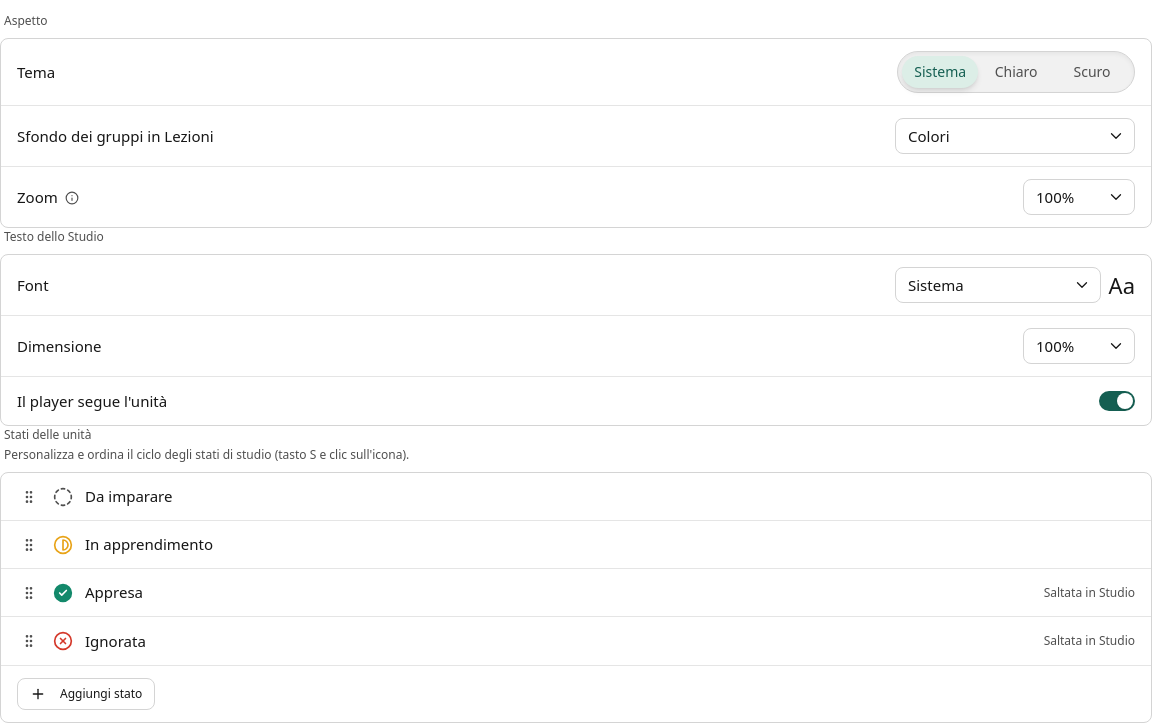
Test: cambiare la Select aggiorna lo zoom
The image size is (1152, 724).
Expected: the element with test id "pref-zoom" reads "100%", [1036,187,1074,207]
Scegli 125%
Click the button named "Zoom".
click(1116, 197)  # box [1102,183,1130,211]
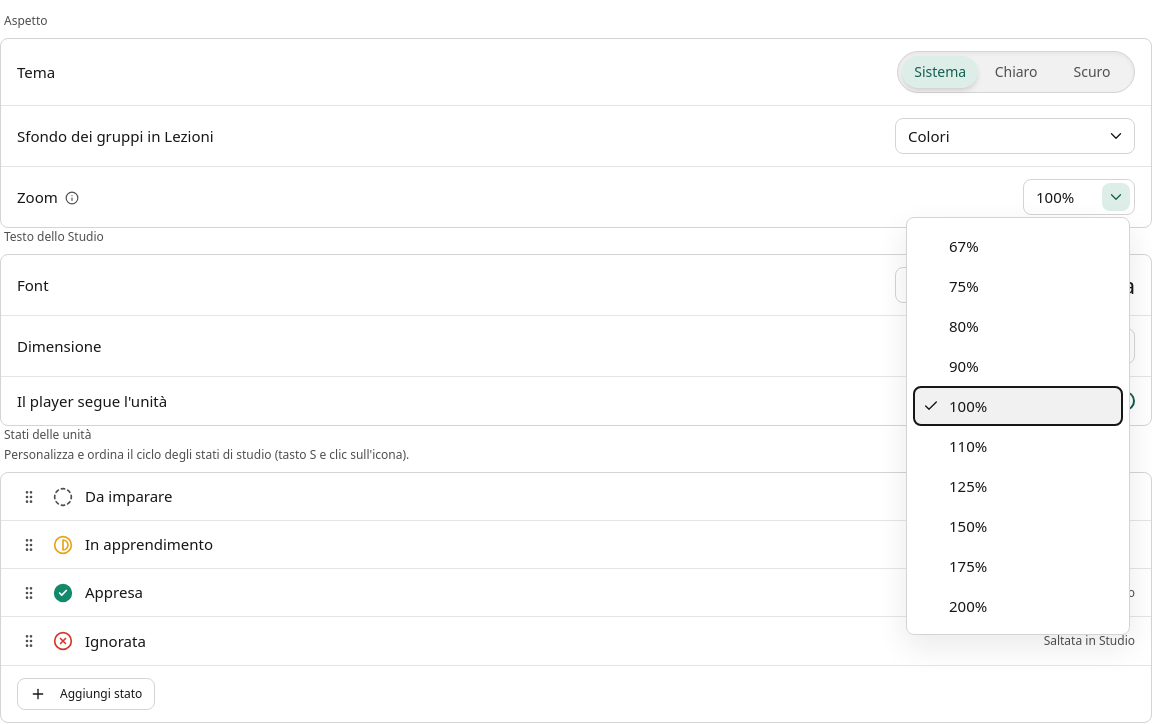
Click the menu item "125%".
click(1018, 486)  # box [913,466,1123,506]
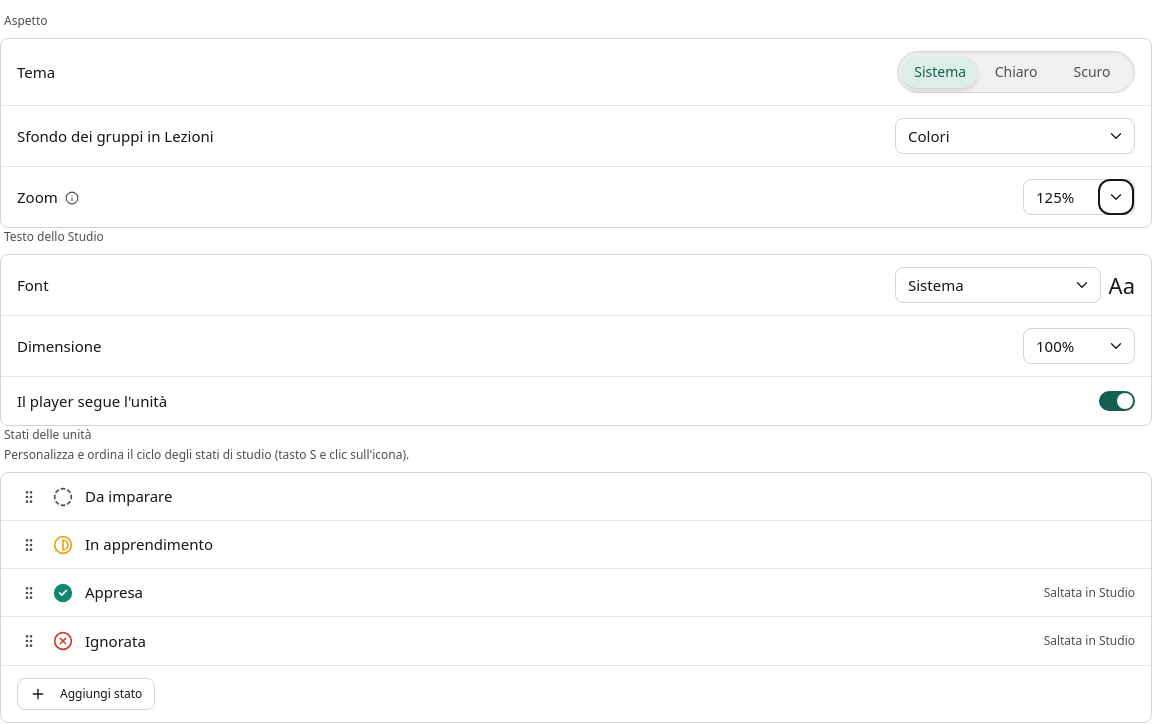
Now the element with test id "pref-zoom" reads "125%", box [1036,187,1074,207]
Reimposta a 100% dalla select
Click the button named "Zoom".
click(1116, 197)  # box [1102,183,1130,211]
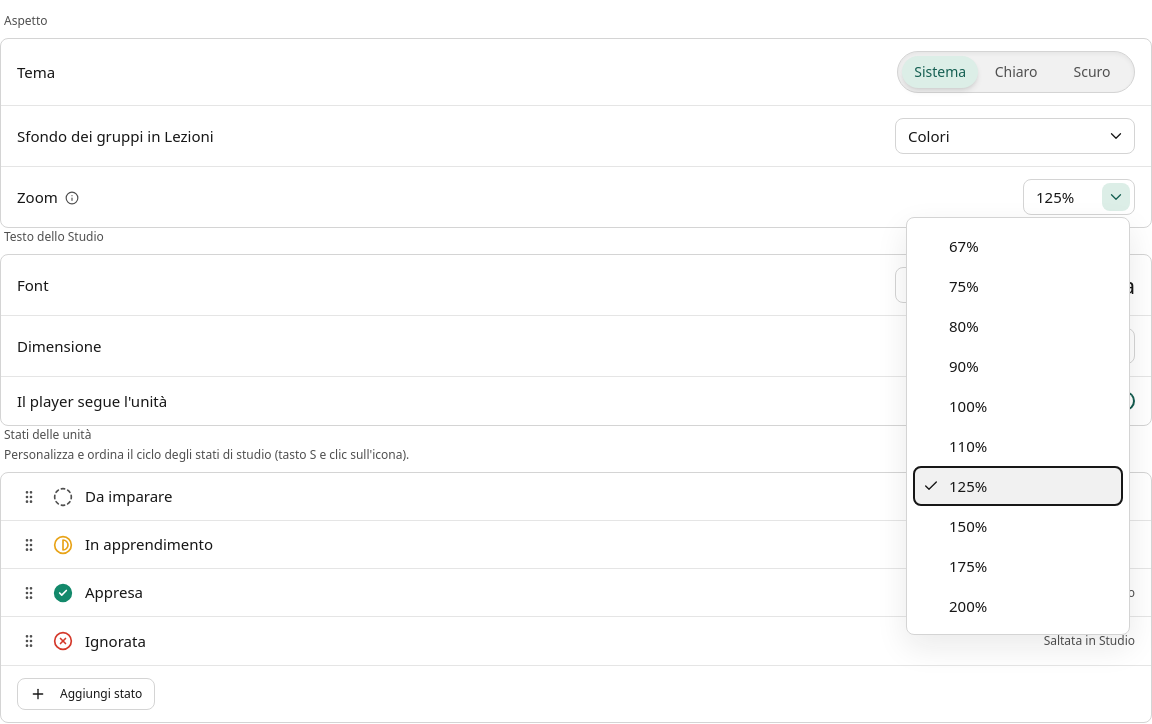
Click the menu item "100%".
click(1018, 406)  # box [913,386,1123,426]
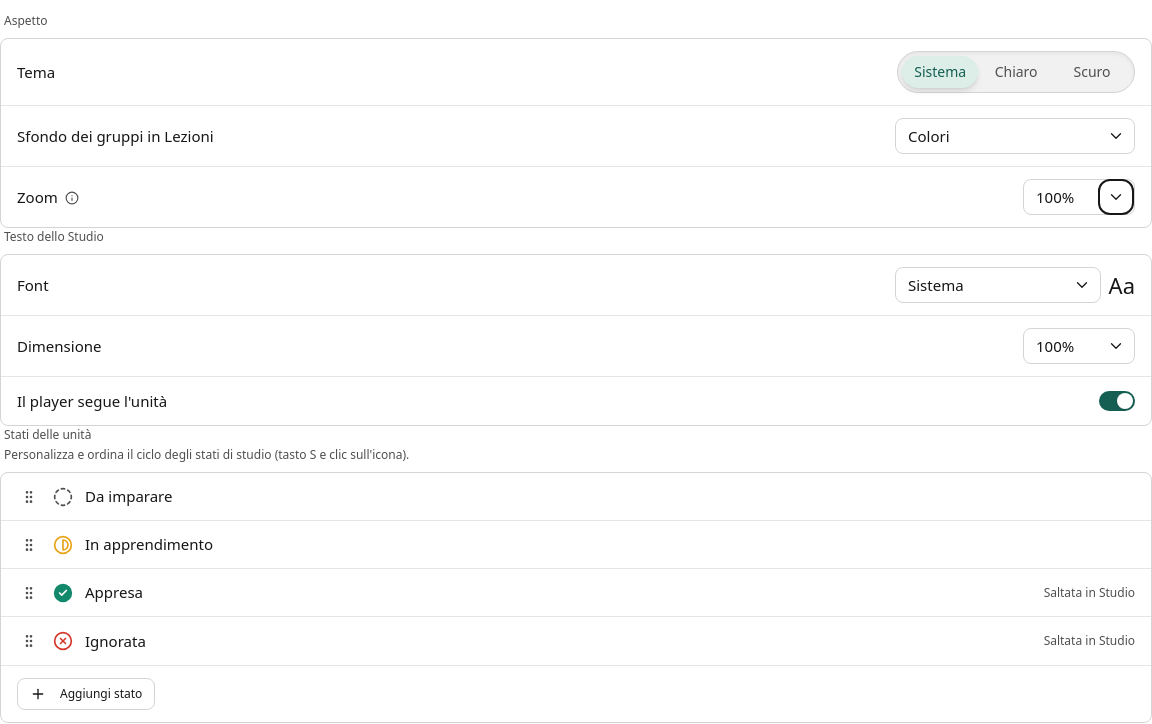
Now the element with test id "pref-zoom" reads "100%", box [1036,187,1074,207]
